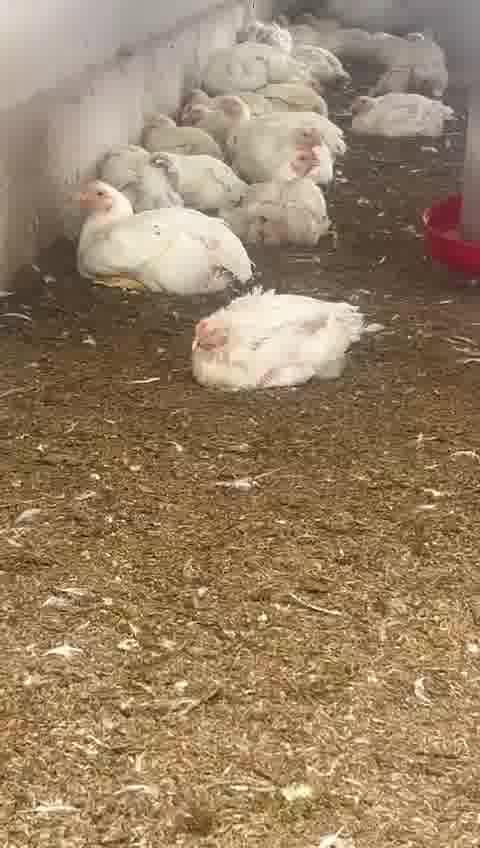AbNormal: (188, 286, 369, 393), (97, 140, 229, 207), (132, 111, 217, 164), (202, 46, 283, 91), (178, 79, 234, 118)
Normal: (58, 176, 245, 295), (246, 146, 331, 246), (339, 79, 462, 144), (216, 90, 352, 146), (251, 122, 333, 164)
